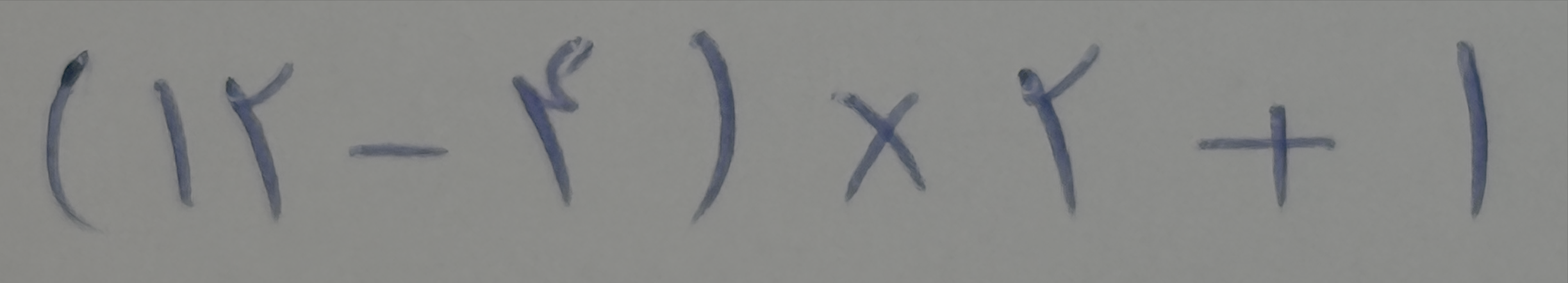character: (1195, 104, 1335, 207), (511, 35, 594, 207), (1018, 43, 1100, 217), (225, 61, 294, 223), (830, 90, 926, 202), (46, 49, 100, 232), (689, 31, 737, 223), (1455, 39, 1488, 219), (151, 77, 195, 207), (346, 143, 448, 159)
